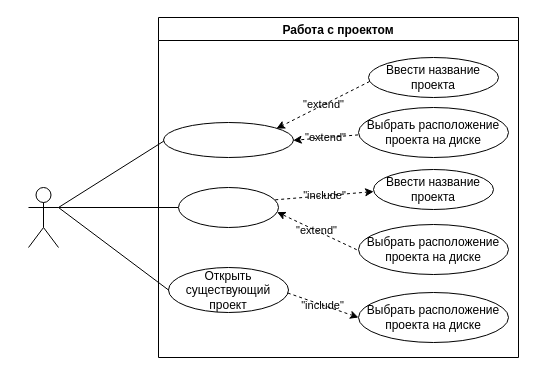
The diagram is 536 pixels wide and 375 high, and some of its shapes have lost their labels. Each missing label, with the box of its shape:
Методист: (28, 186, 58, 248)
Создать проект: (178, 186, 278, 228)
Сохранить проект: (162, 122, 294, 158)
